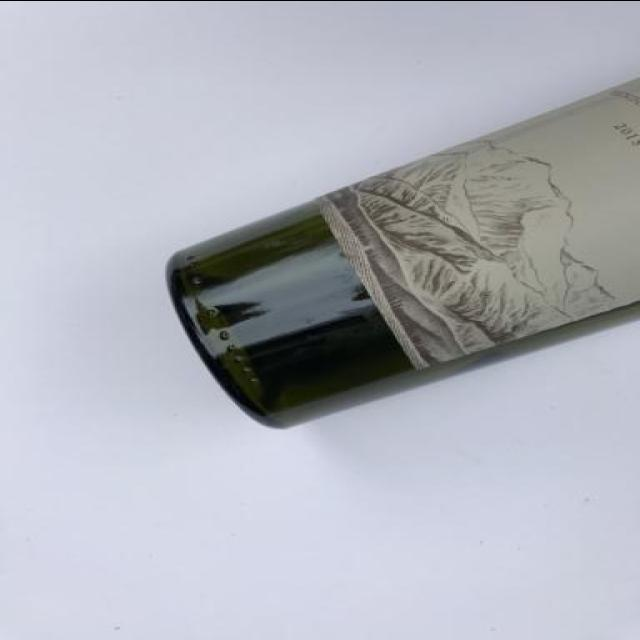Glass Bottle: (161, 78, 640, 435)
